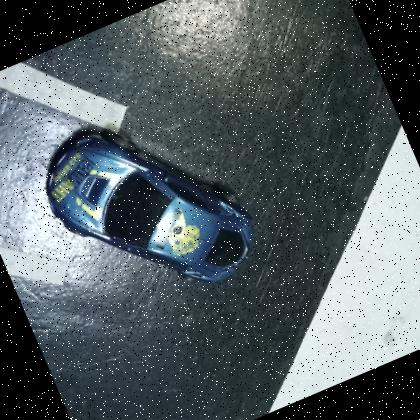Car: (30, 85, 273, 331)
